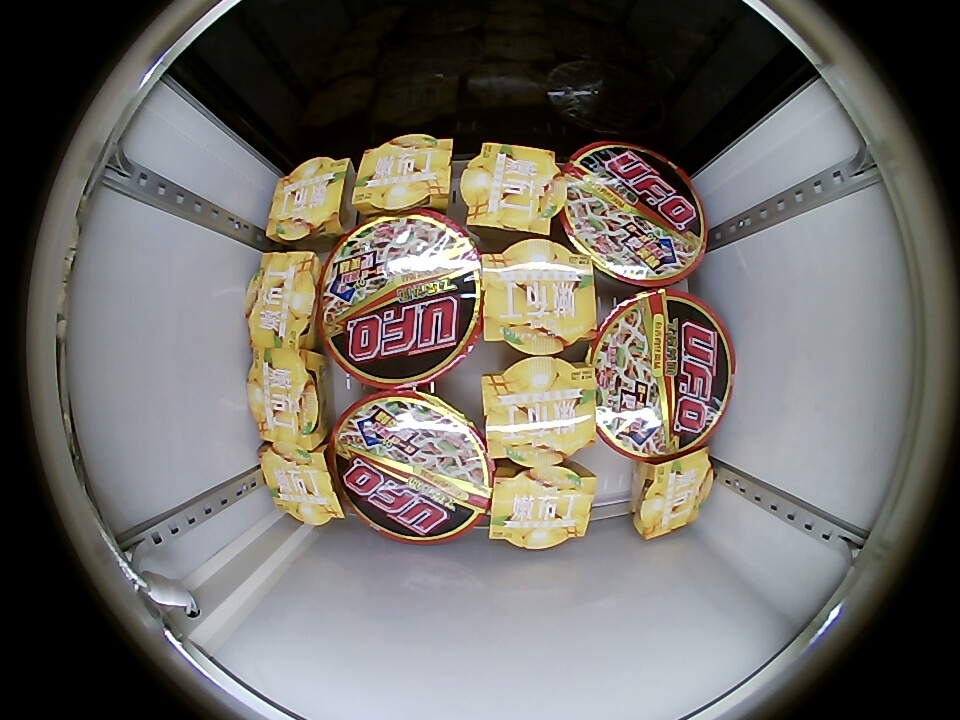buding: (481, 237, 597, 355), (483, 357, 596, 465), (460, 143, 567, 236), (489, 463, 597, 549), (247, 348, 328, 449), (351, 135, 453, 215), (245, 250, 321, 347), (631, 448, 713, 537), (266, 157, 350, 243), (259, 447, 345, 524)
ufo2: (319, 213, 483, 389), (588, 288, 735, 462), (331, 389, 493, 543), (557, 141, 707, 287)
